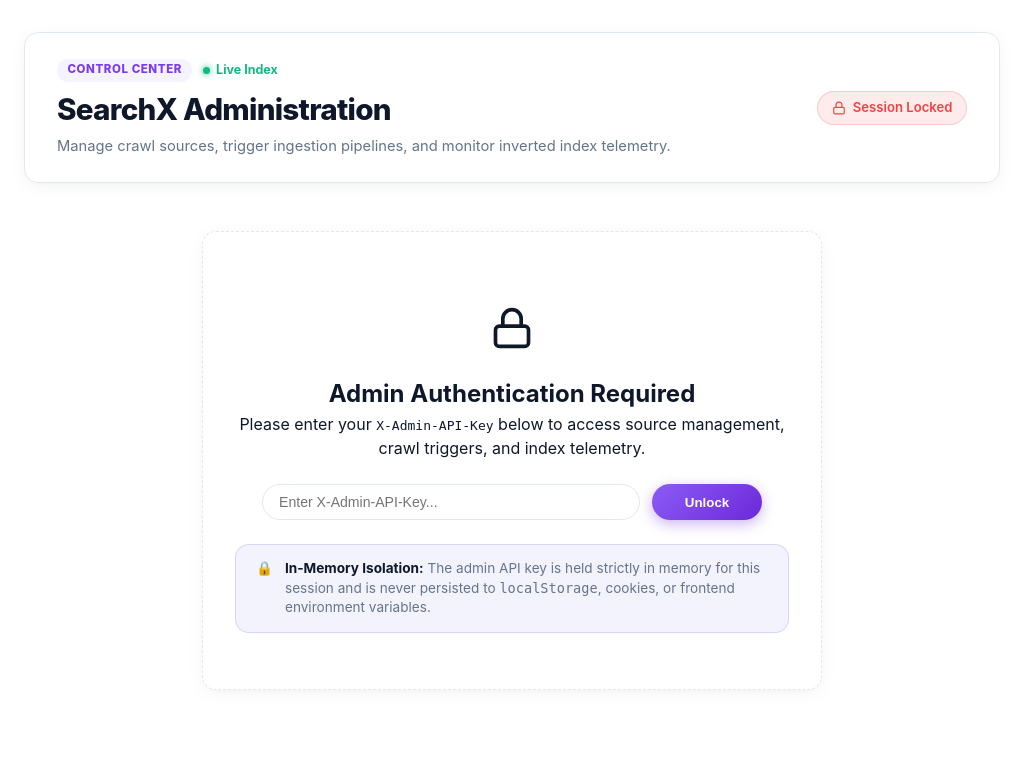
Test: AdminDashboard Component › locks session when Lock Session button is clicked
This screenshot has width=1024, height=768.
Type "valid-admin-secret" into the password field with placeholder "Enter X-Admin-API-Key..." at coordinates (451, 502), box [262, 484, 640, 520]
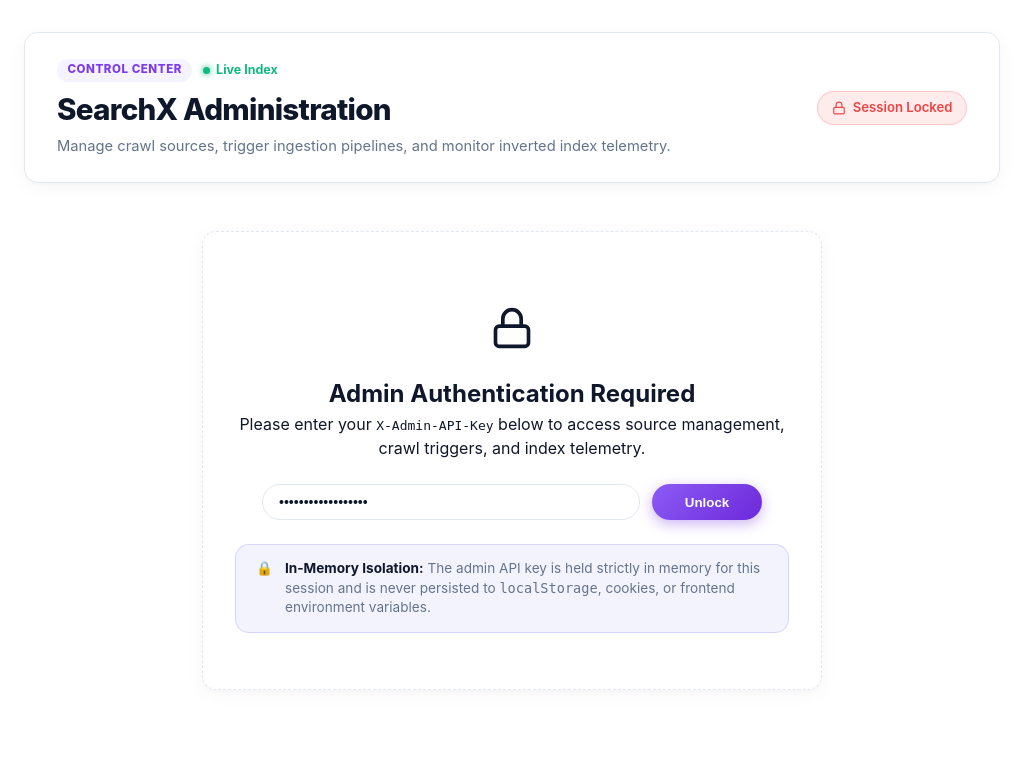
Click the button "Unlock" at coordinates (707, 502), box [652, 484, 762, 520]
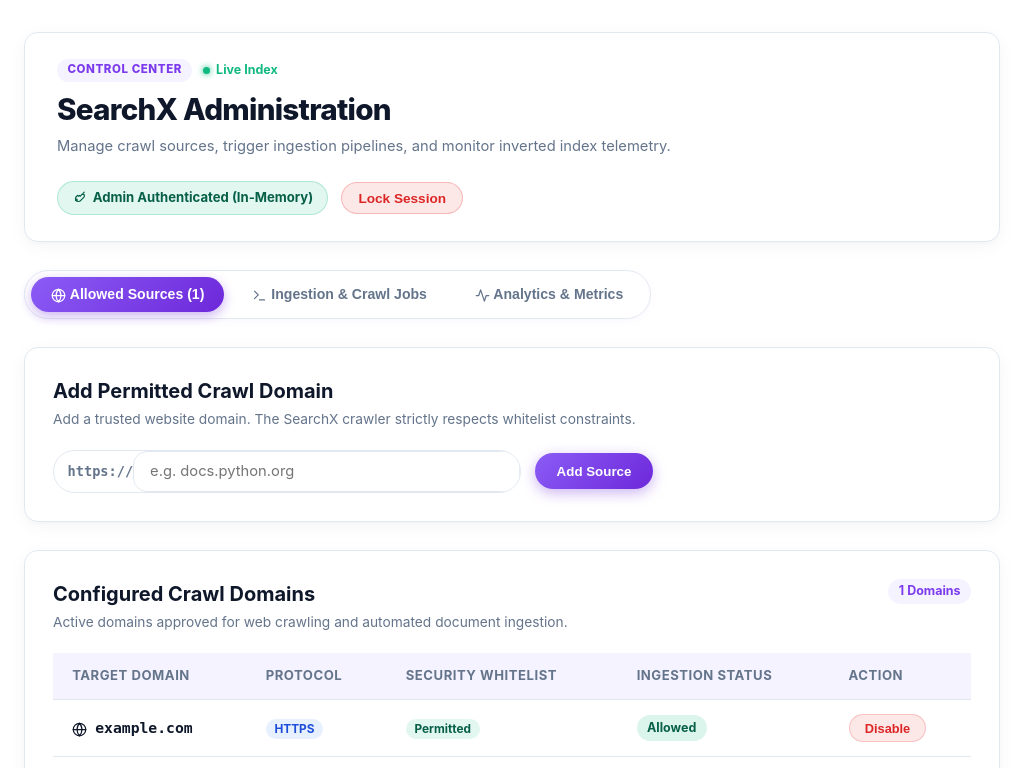
expect the text "example.com" is shown: met, box [95, 717, 193, 739]
// Click Lock Session
Click the button "Lock Session" at coordinates (402, 198), box [341, 182, 463, 214]
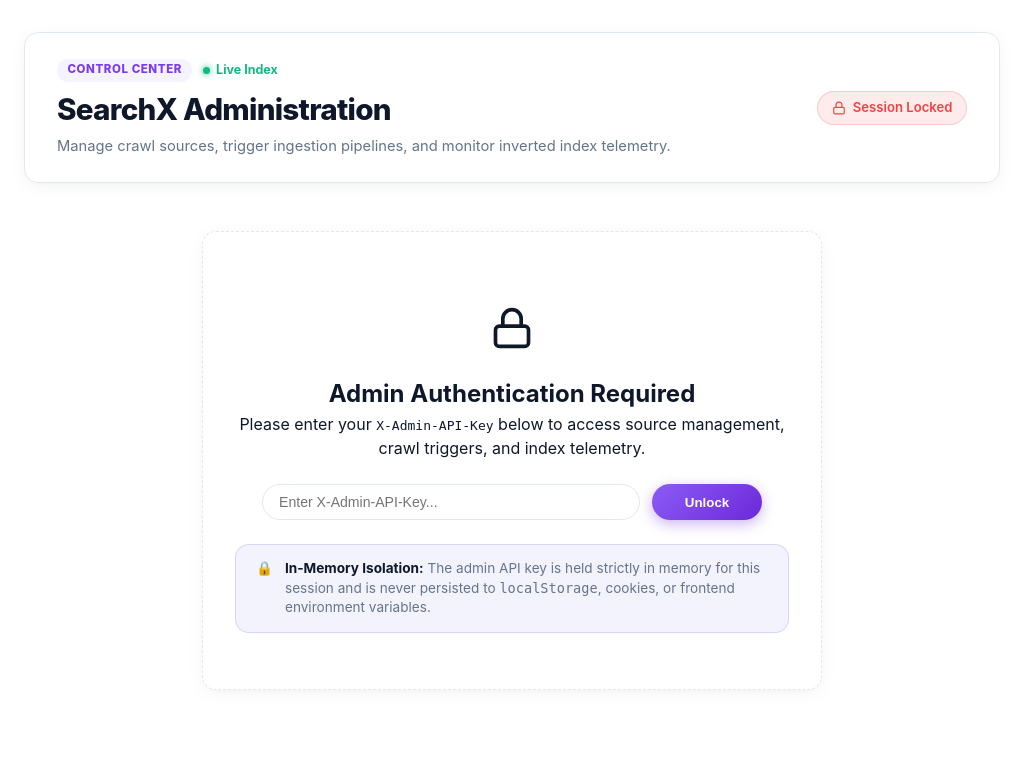
expect the heading "Admin Authentication Required" is shown: met, box [329, 380, 695, 408]
expect the text "example.com" is gone: met
